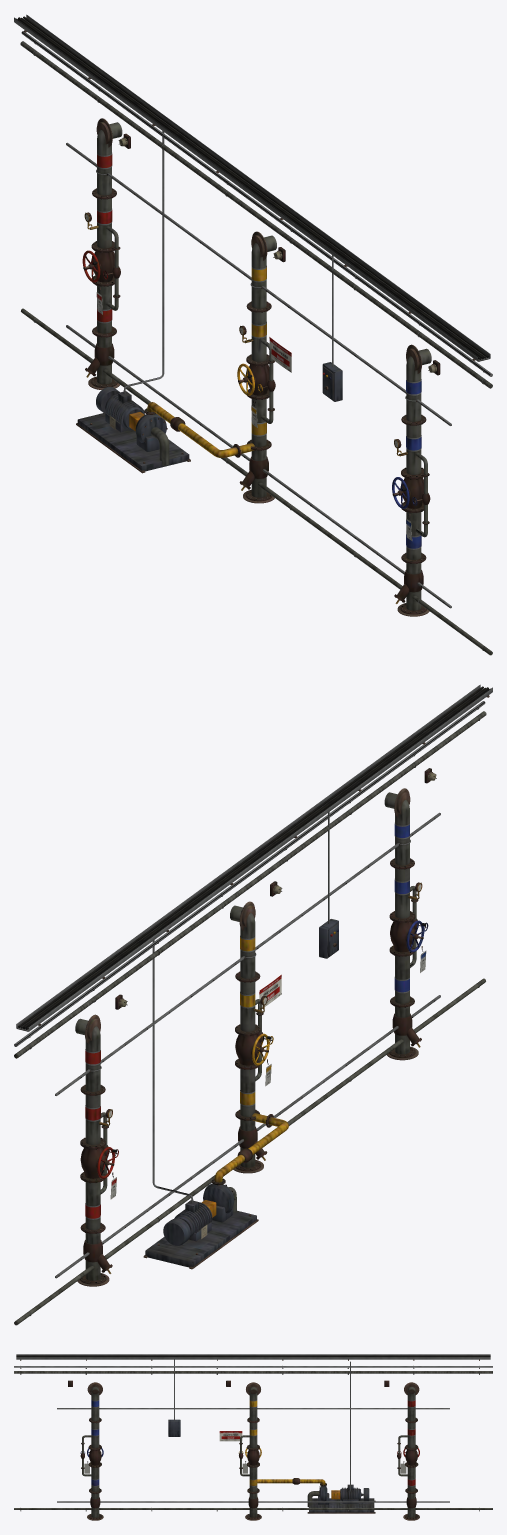
Rendered from valve-manifold.glb.
The picture shows the model from 3 angles, top to bottom: view 1: azimuth 30°, elevation 25°; view 2: azimuth 150°, elevation 25°; view 3: azimuth 270°, elevation 25°; orthographic projection. The views are drawn at different scales.
Parts seen in each view (by area): view 1: manifold, labels; view 2: manifold, labels; view 3: manifold, labels.
Boxes of the visible parts, box(x1,y1,x2,y2) form: manifold: box(14, 14, 492, 655); labels: box(85, 212, 412, 540); manifold: box(14, 684, 492, 1325); labels: box(108, 882, 426, 1238); manifold: box(14, 1354, 492, 1520); labels: box(84, 1431, 406, 1473).
Size of the model in its own units: 2.04 by 7.82 by 21.2.
Materials: 2 (2 with a texture image).
